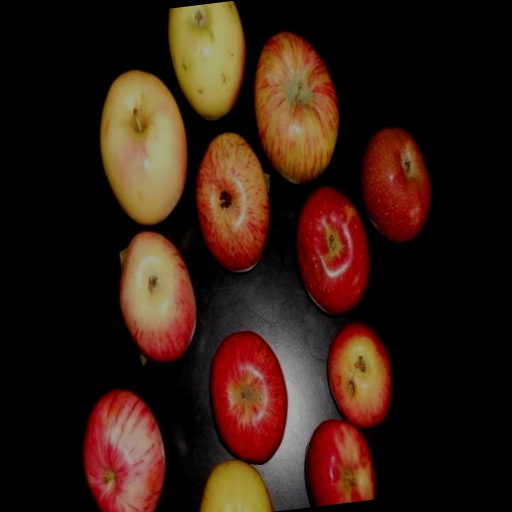fruit: (147, 178, 512, 512), (132, 114, 471, 451), (112, 232, 483, 512), (161, 69, 512, 350), (85, 202, 338, 512), (80, 104, 334, 394), (122, 250, 390, 512), (110, 41, 405, 233), (42, 151, 201, 484), (43, 102, 207, 325), (30, 256, 142, 512), (67, 12, 276, 119)
